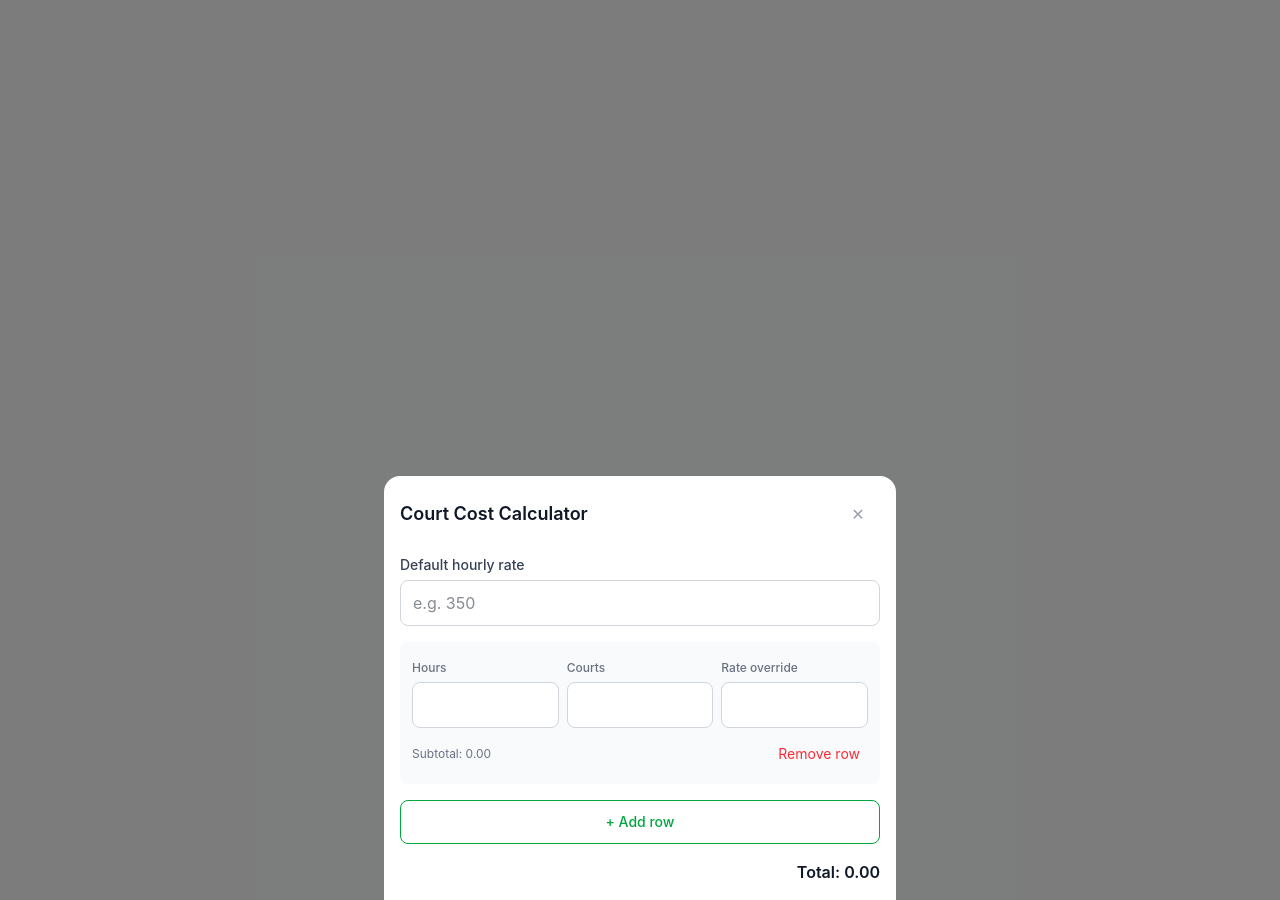
Scenario: CourtCostCalculator › row rate overrides the default
Type "350" into the number field labelled "Default hourly rate" at point(640, 603), box [400,580,880,626]
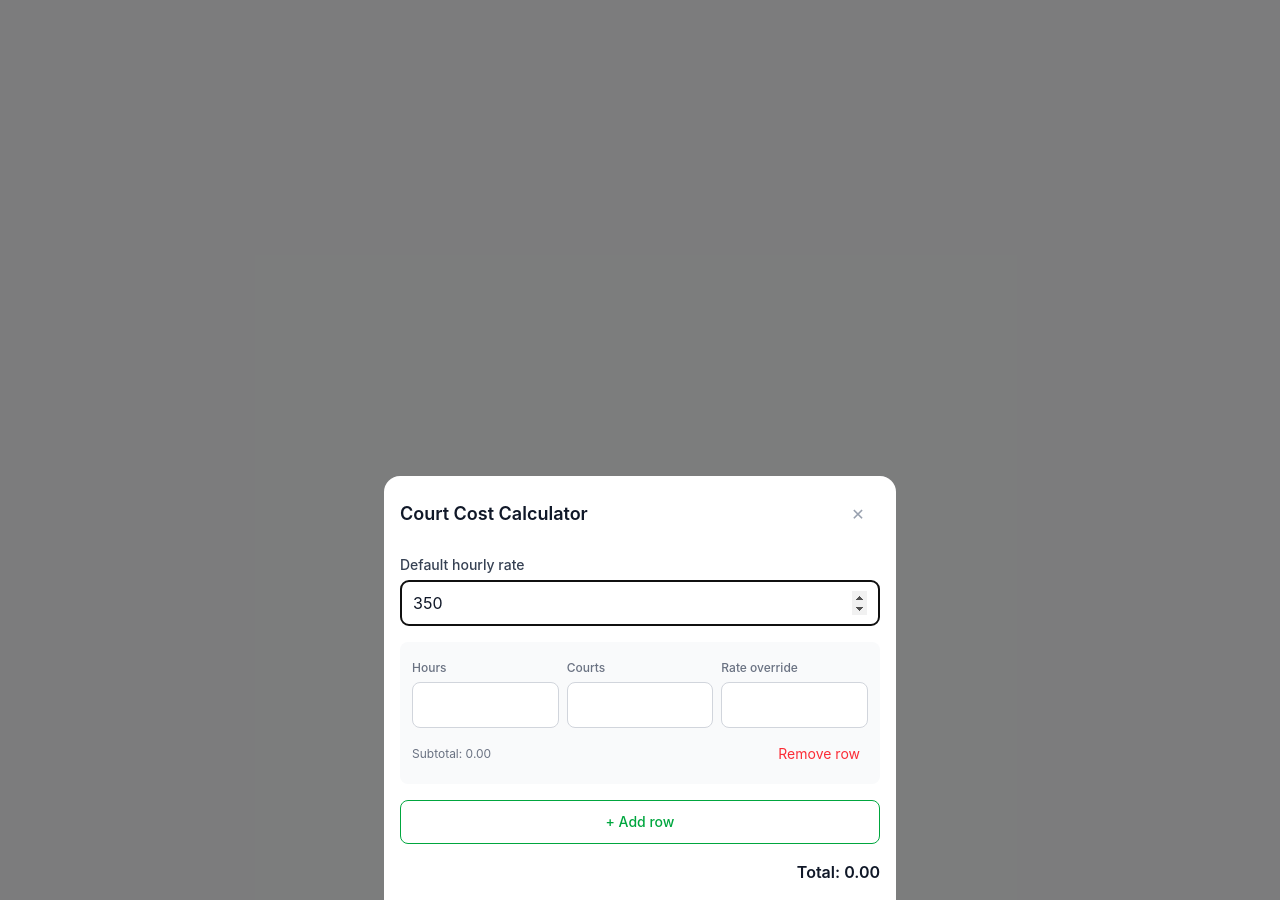
Type "1" into the number field labelled "Hours" at point(485, 705), box [412,682,559,728]
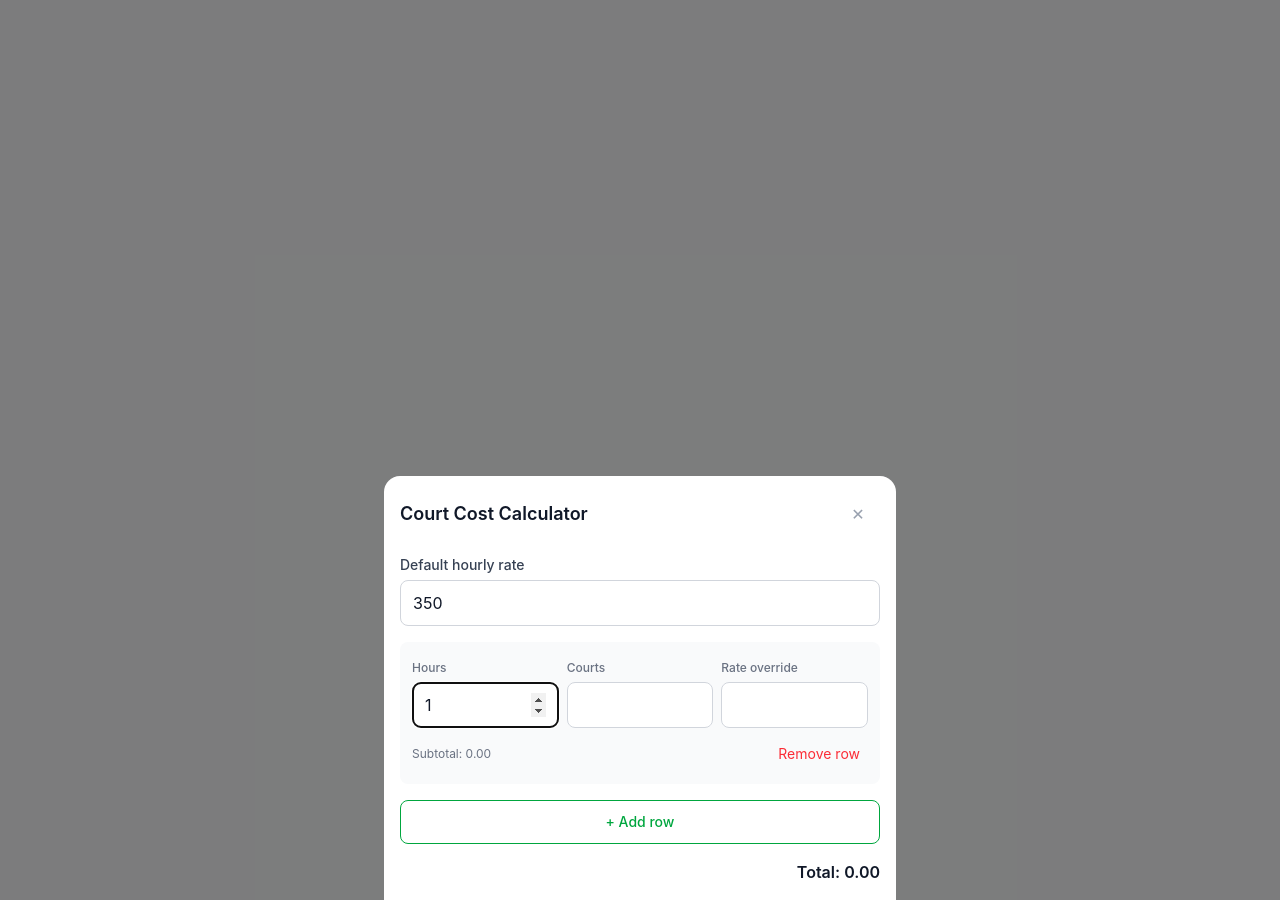
Type "1" into the number field labelled "Courts" at point(640, 705), box [567,682,713,728]
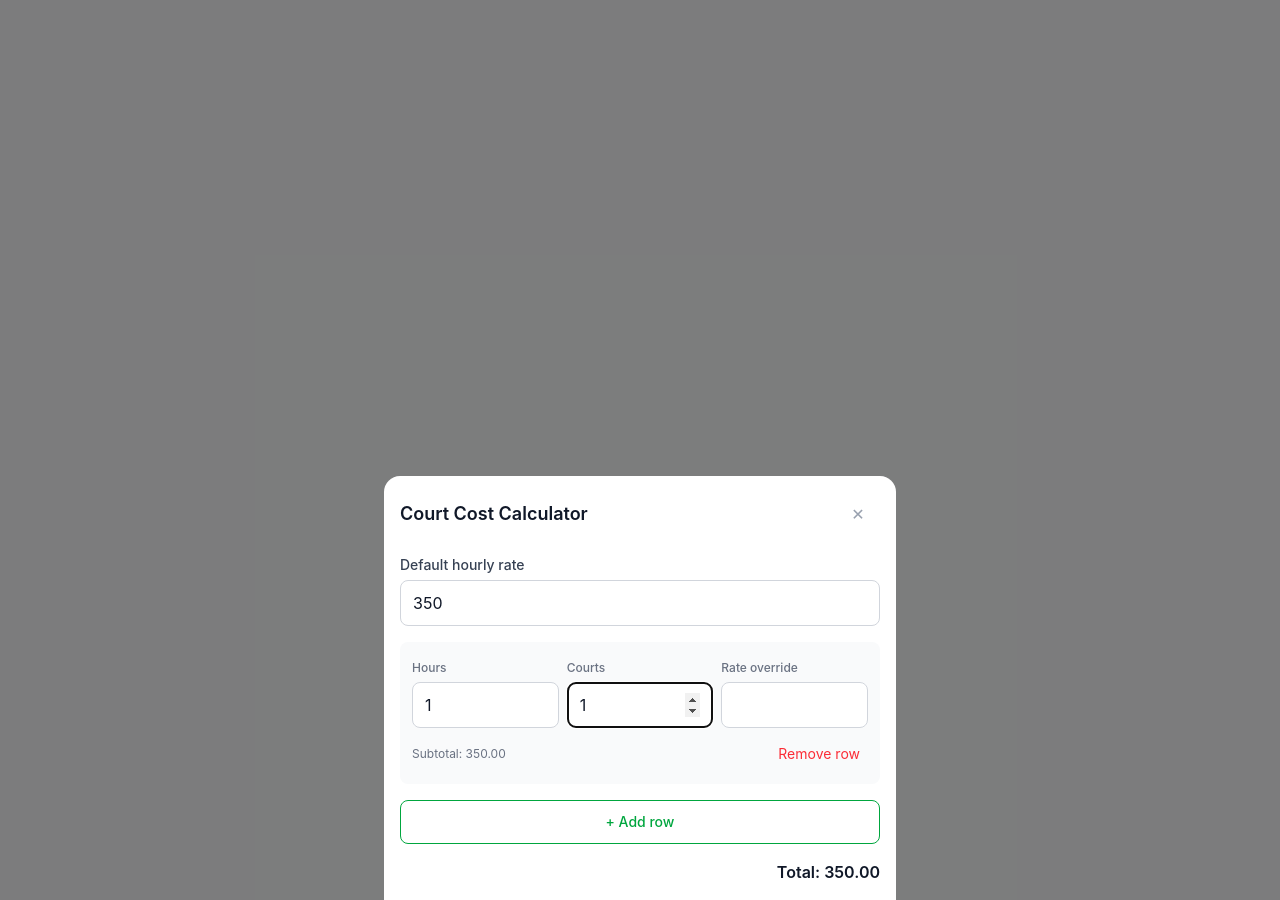
Type "500" into the number field labelled "Rate override" at point(795, 705), box [721,682,868,728]
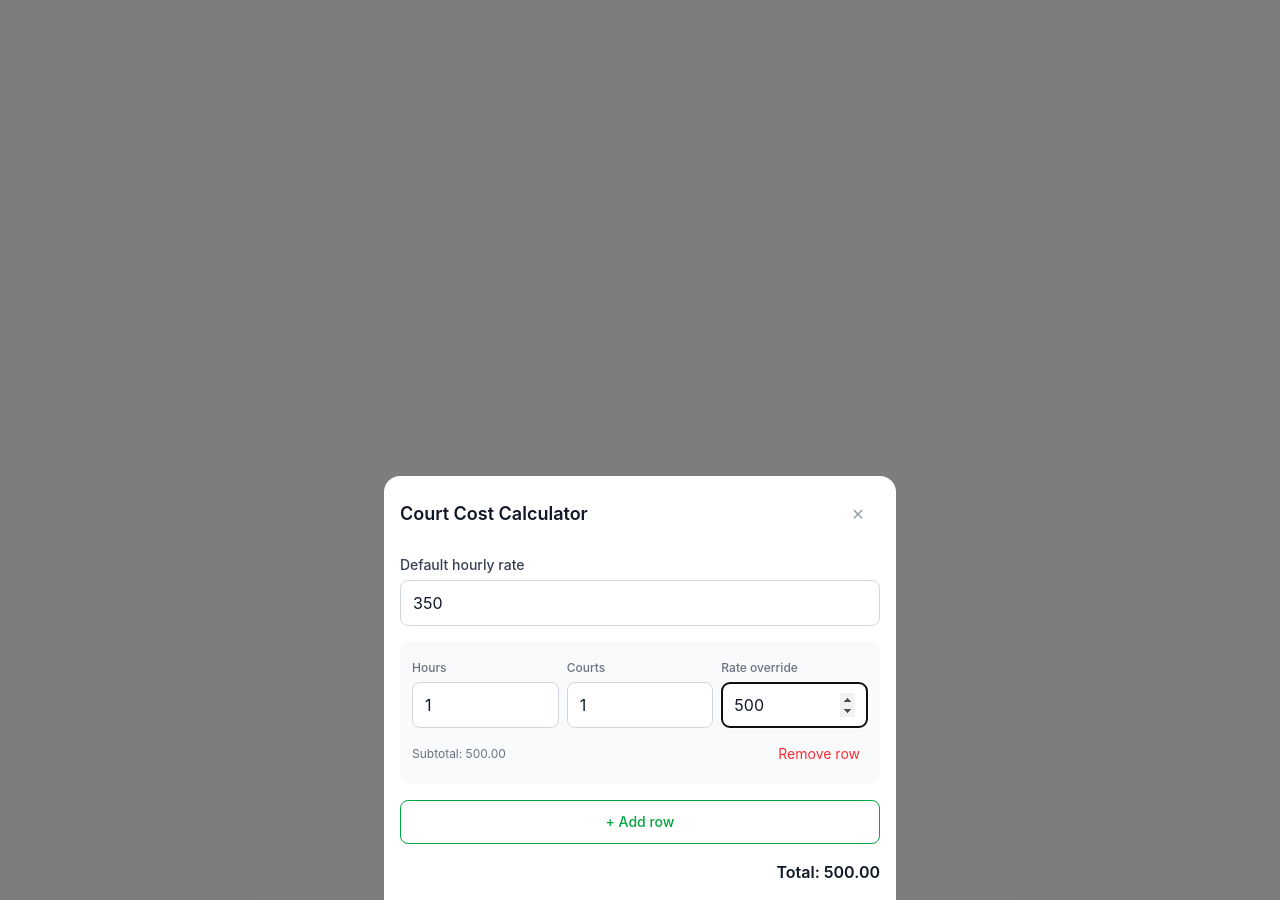
Check: the text "Total: 500.00" is shown, box [776,862,880,882]
